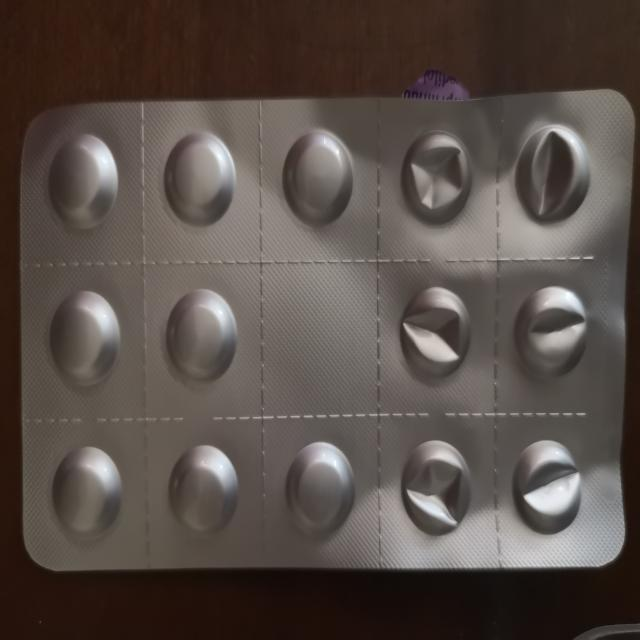Empty: (389, 273, 480, 389), (510, 122, 601, 231), (390, 122, 477, 229), (505, 431, 588, 539), (510, 276, 592, 385), (393, 435, 476, 540)
Pill: (43, 440, 134, 547), (39, 130, 128, 237), (159, 282, 244, 392), (161, 436, 247, 541), (157, 127, 241, 232), (282, 428, 358, 543), (273, 127, 360, 227), (44, 283, 125, 390)
